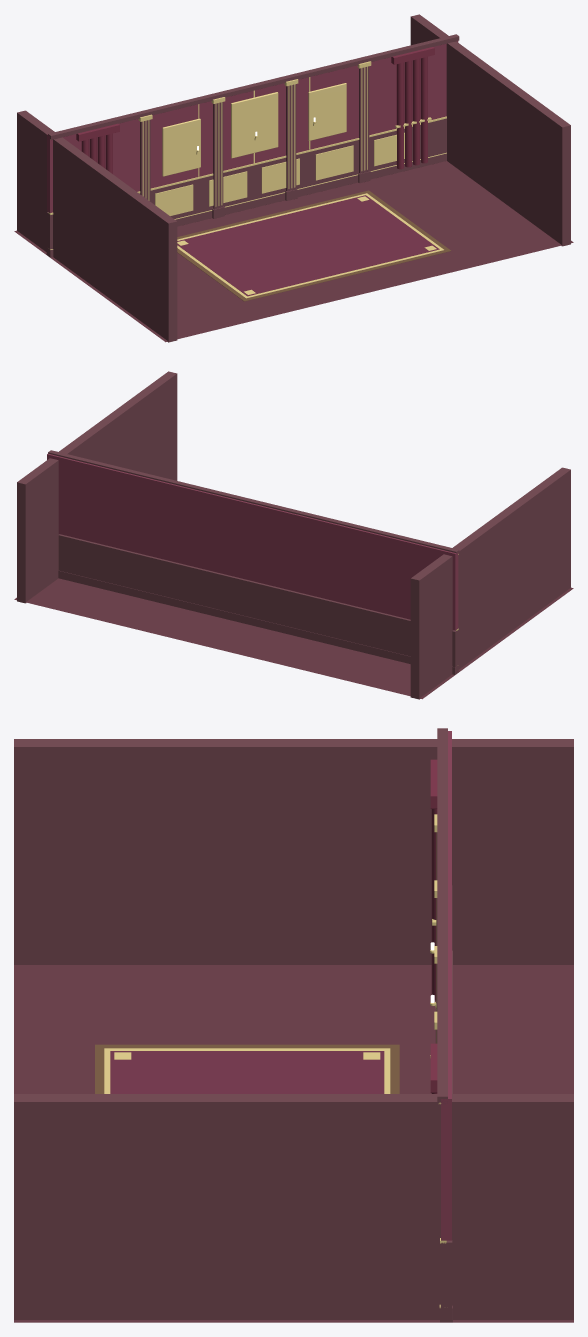
Rendered from room_dama_salon.glb.
The picture shows the model from 3 angles, top to bottom: view 1: azimuth 30°, elevation 25°; view 2: azimuth 150°, elevation 25°; view 3: azimuth 270°, elevation 25°; orthographic projection. The views are drawn at different scales.
Visible parts, largest first — view 1: Floor.006, SideWall_Left.006, SideWall_Right.006, ClubRug_Inner.006, BackWall_Upper.006, BackWall_Lower.006, CrownMolding.006, FrameOuter_CenterGrandArt.006, ClubRug_Outer.006, FrameOuter_RightArt.006, FrameOuter_LeftArt.006, Baseboard.006 (+15 smaller); view 2: BackWall_Upper.006, SideWall_Left.006, BackWall_Lower.006, Floor.006, SideWall_Right.006, Baseboard.006, CrownMolding.006; view 3: SideWall_Right.006, SideWall_Left.006, Floor.006, ClubRug_Inner.006, CrownMolding.006, BackWall_Upper.006, ClubRug_Outer.006, ClubRug_Stripe.006, BackWall_Lower.006, DraperyFold_Left_3.006.
Boxes of the visible parts, bbox=[...] form: Floor.006: bbox=[14, 161, 573, 342]; SideWall_Left.006: bbox=[17, 110, 177, 342]; SideWall_Right.006: bbox=[410, 14, 570, 246]; ClubRug_Inner.006: bbox=[177, 195, 439, 296]; BackWall_Upper.006: bbox=[47, 41, 458, 212]; BackWall_Lower.006: bbox=[47, 118, 446, 249]; CrownMolding.006: bbox=[48, 34, 459, 139]; FrameOuter_CenterGrandArt.006: bbox=[231, 92, 278, 158]; ClubRug_Outer.006: bbox=[177, 190, 450, 301]; FrameOuter_RightArt.006: bbox=[308, 83, 346, 140]; FrameOuter_LeftArt.006: bbox=[162, 118, 200, 176]; Baseboard.006: bbox=[46, 153, 446, 257]; BackWall_Upper.006: bbox=[47, 453, 458, 630]; SideWall_Left.006: bbox=[410, 467, 570, 699]; BackWall_Lower.006: bbox=[58, 534, 458, 667]; Floor.006: bbox=[14, 578, 573, 699]; SideWall_Right.006: bbox=[17, 371, 177, 603]; Baseboard.006: bbox=[58, 570, 458, 674]; CrownMolding.006: bbox=[48, 450, 459, 553]; SideWall_Right.006: bbox=[14, 1094, 573, 1319]; SideWall_Left.006: bbox=[14, 739, 573, 964]; Floor.006: bbox=[14, 965, 573, 1322]; ClubRug_Inner.006: bbox=[110, 1051, 384, 1093]; CrownMolding.006: bbox=[437, 728, 447, 1104]; BackWall_Upper.006: bbox=[441, 731, 451, 1240]; ClubRug_Outer.006: bbox=[95, 1044, 399, 1093]; ClubRug_Stripe.006: bbox=[104, 1048, 390, 1093]; BackWall_Lower.006: bbox=[440, 885, 452, 1308]; DraperyFold_Left_3.006: bbox=[431, 809, 437, 1000].
Bounding box in the file's own units: 28 × 8.09 × 18.
